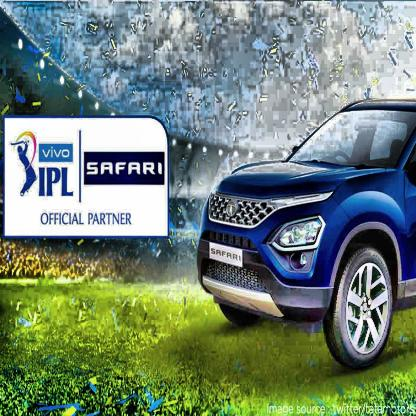IPL: (10, 131, 36, 200), (39, 166, 74, 199)
TATA Safari: (85, 158, 163, 178), (210, 246, 242, 265)
Vivo: (41, 146, 70, 160)
